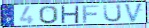4: (19, 5, 36, 25)
F: (82, 4, 101, 23)
H: (60, 5, 80, 24)
O: (38, 5, 59, 25)
U: (103, 3, 123, 23)
V: (124, 2, 144, 24)
